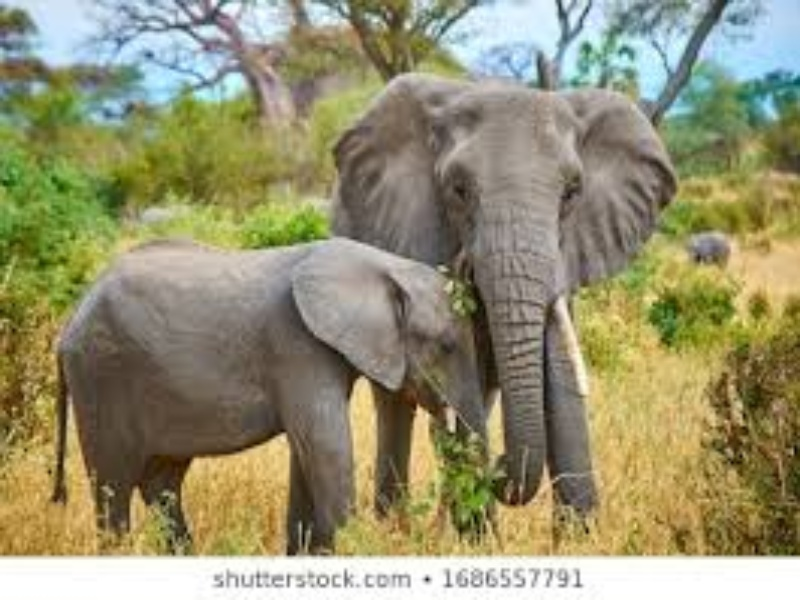elephant: (343, 70, 654, 538), (55, 229, 488, 559)
